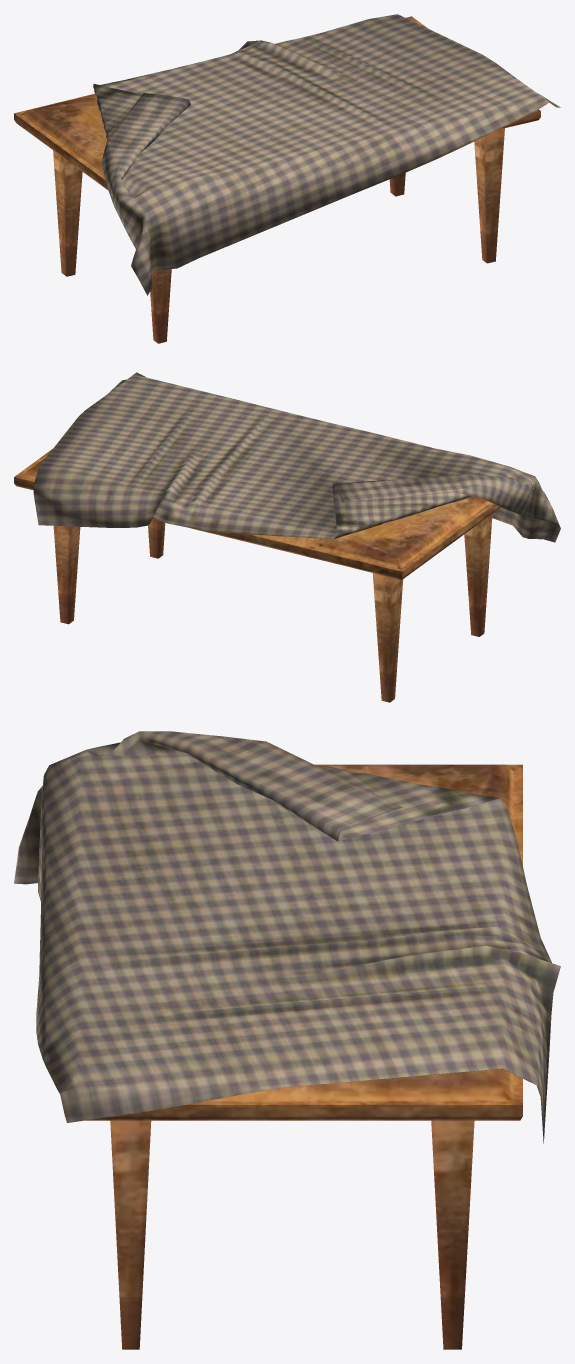
Rendered from dining_table.glb.
3 views of the same model, one above another, from view 1: azimuth 30°, elevation 25°; view 2: azimuth 150°, elevation 25°; view 3: azimuth 270°, elevation 25° (orthographic). The views are drawn at different scales.
Parts seen in each view (by area): view 1: dining_table; view 2: dining_table; view 3: dining_table.
Part boxes in pixels (x1,y1,x2,y2): dining_table: (14, 14, 560, 343); dining_table: (14, 372, 560, 702); dining_table: (14, 731, 560, 1349).
Size of the model in its own units: 2.26 by 0.8769 by 1.39.
Materials: 1 (1 with a texture image).
